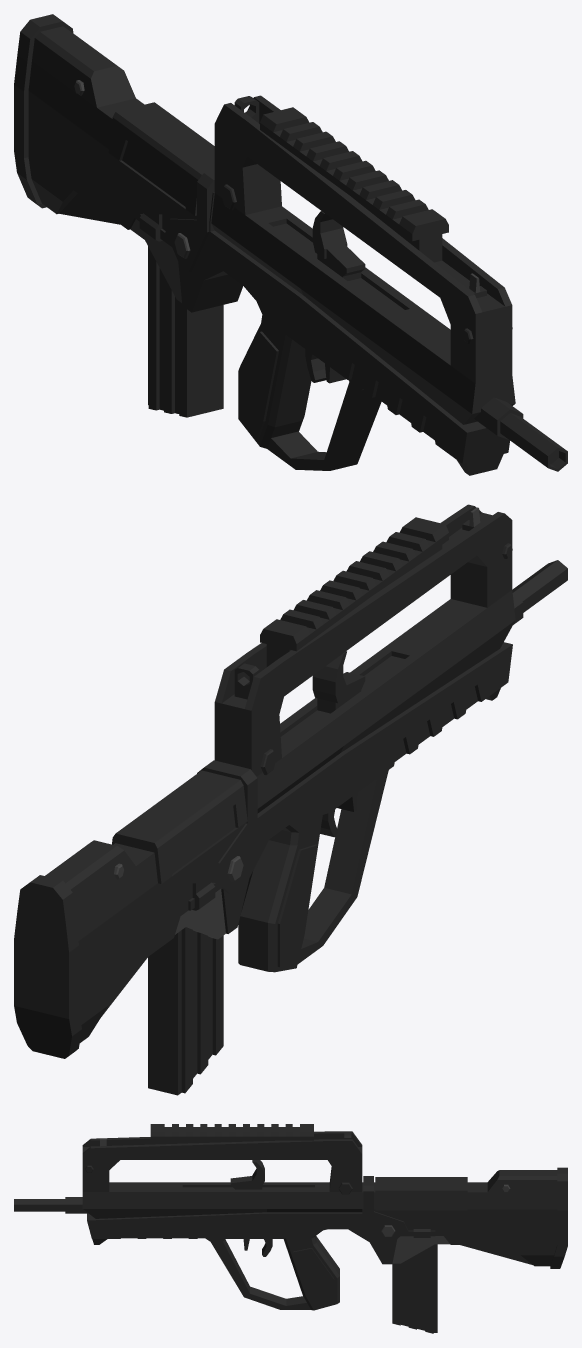
3 renders of one model, top to bottom at view 1: azimuth 30°, elevation 25°; view 2: azimuth 150°, elevation 25°; view 3: azimuth 270°, elevation 25°, orthographic. The views are drawn at different scales.
Parts seen in each view (by area): view 1: AR_E_Receiver, AR_E_Mag, AR_E_Rail, AR_E_Barrel, AR_E_Bolt; view 2: AR_E_Receiver, AR_E_Mag, AR_E_Rail, AR_E_Bolt, AR_E_Barrel; view 3: AR_E_Receiver, AR_E_Mag, AR_E_Rail, AR_E_Barrel, AR_E_Bolt.
Part boxes in pixels (left/top/right/bottom): AR_E_Receiver: left=14, top=14, right=515, bottom=475; AR_E_Mag: left=148, top=246, right=223, bottom=417; AR_E_Rail: left=260, top=107, right=448, bottom=262; AR_E_Barrel: left=474, top=397, right=567, bottom=471; AR_E_Bolt: left=312, top=211, right=365, bottom=280; AR_E_Receiver: left=14, top=504, right=515, bottom=1058; AR_E_Mag: left=148, top=927, right=223, bottom=1095; AR_E_Rail: left=260, top=517, right=448, bottom=666; AR_E_Bolt: left=312, top=651, right=365, bottom=713; AR_E_Barrel: left=512, top=560, right=567, bottom=624; AR_E_Receiver: left=82, top=1131, right=567, bottom=1310; AR_E_Mag: left=392, top=1244, right=437, bottom=1333; AR_E_Rail: left=150, top=1124, right=313, bottom=1144; AR_E_Barrel: left=14, top=1197, right=88, bottom=1213; AR_E_Bolt: left=230, top=1160, right=264, bottom=1189.
Size of the model in its own units: 0.065 by 0.39 by 0.9738.
